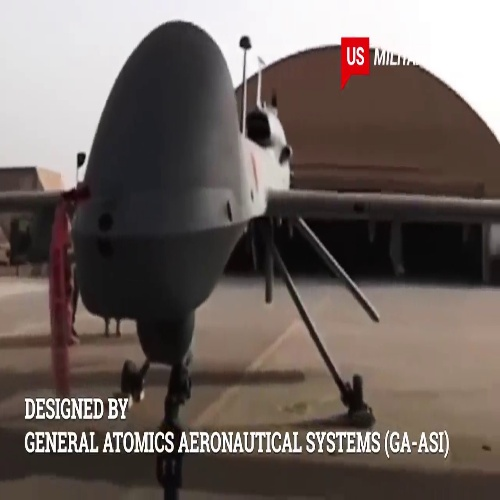uav: (3, 23, 500, 395)
